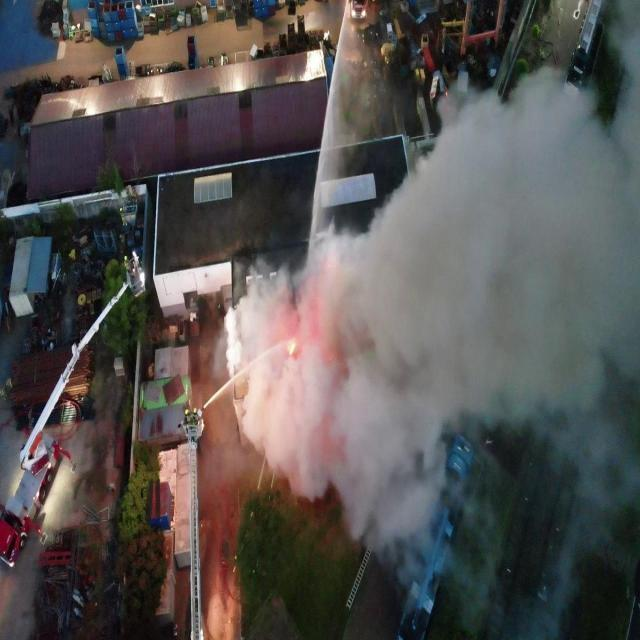Fire: (288, 342, 295, 356)
Smoke: (224, 0, 640, 590)
